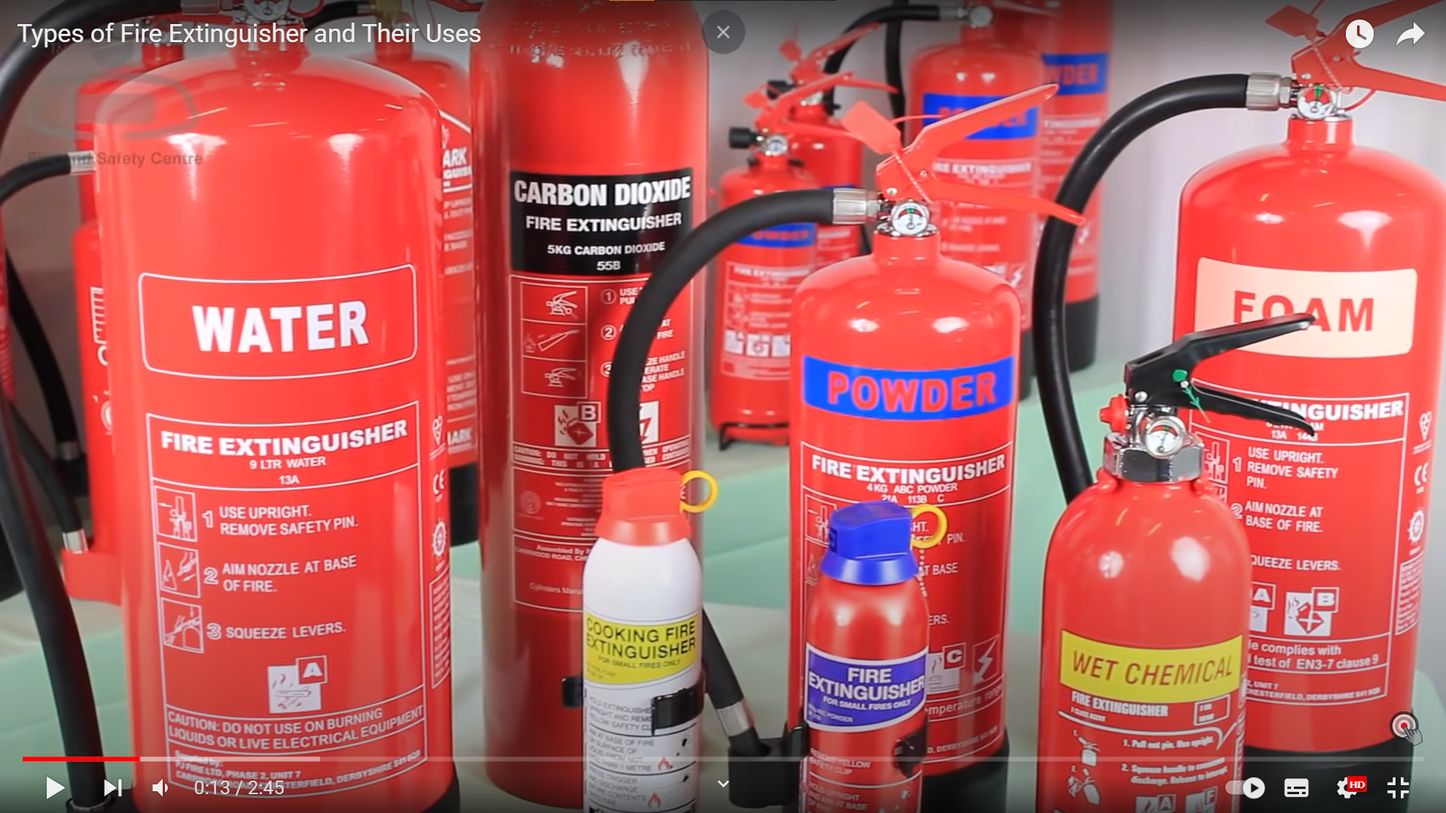fire_extinguisher: (1032, 1, 1445, 812), (68, 14, 460, 812), (469, 1, 712, 808), (1034, 309, 1318, 812), (707, 30, 900, 451)
